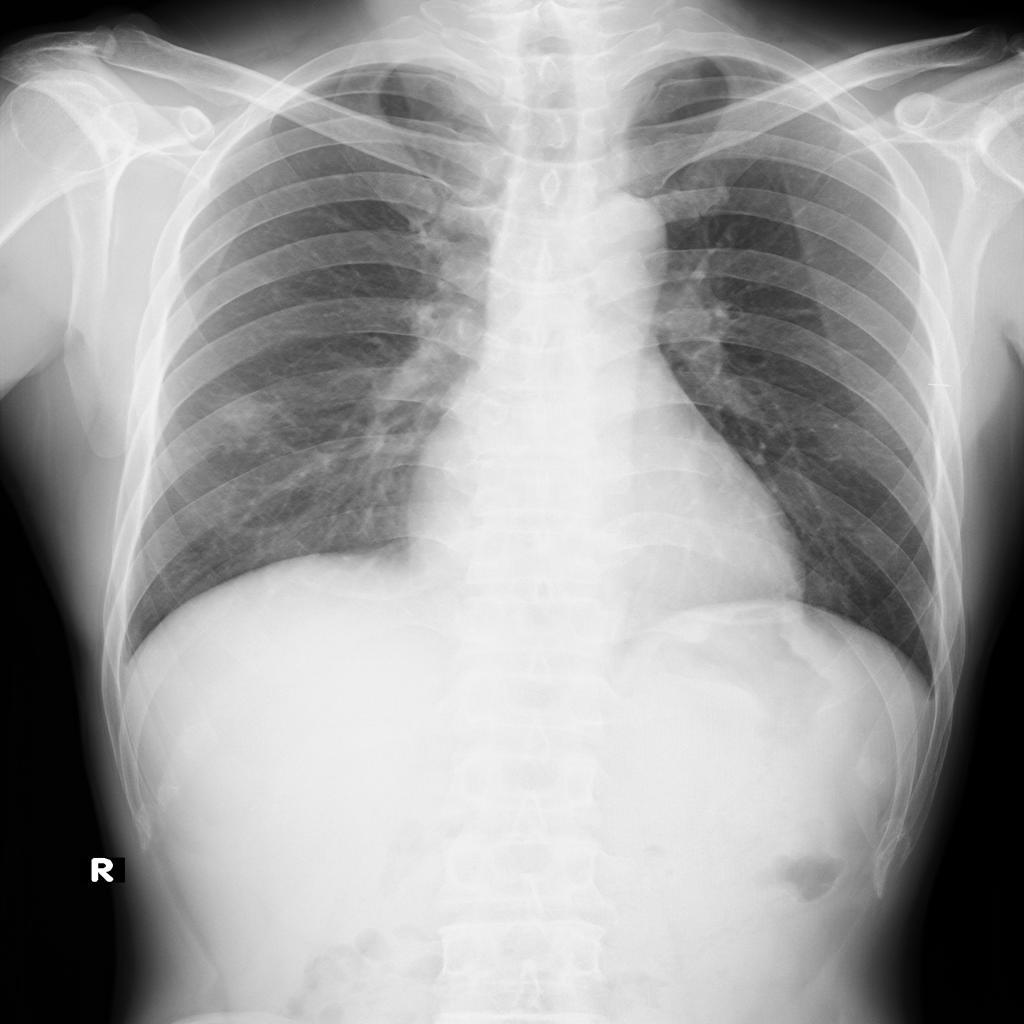Nodule: (210, 394, 269, 433)
